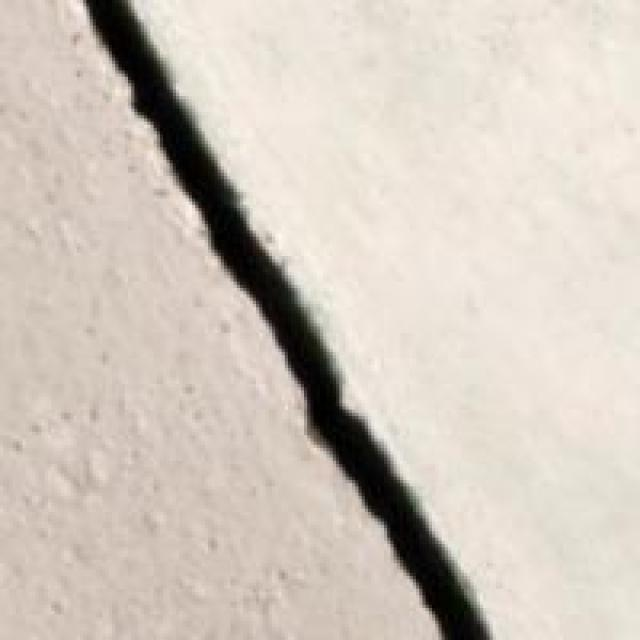crack: (77, 3, 518, 637)
